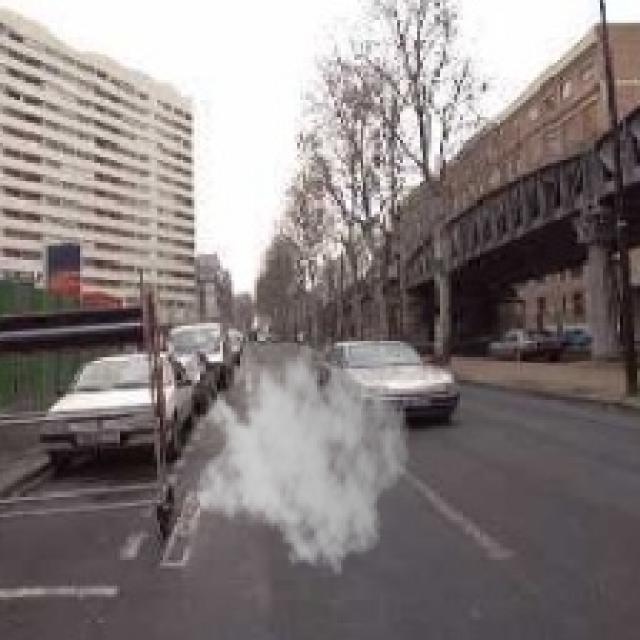smoke: (195, 326, 412, 577)
